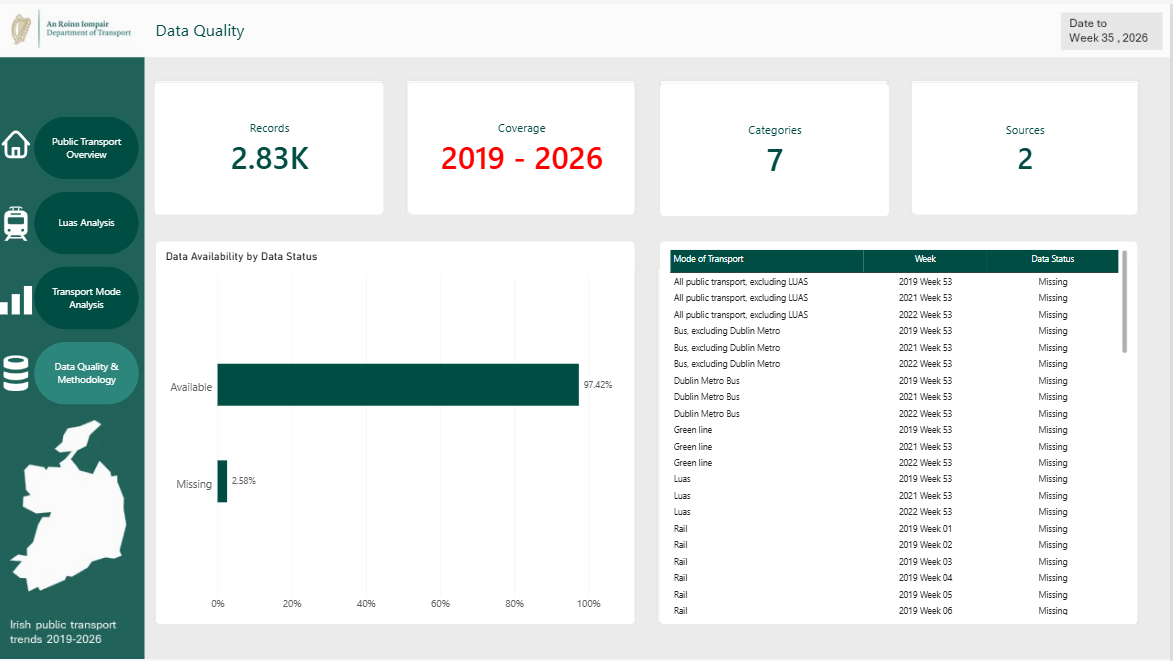

Layout of this report page (visuals, bound fields, positions):
{"tool":"powerbi","page":{"name":"Data Quality & Methodology","canvas":[1920,1080],"ordinal":3},"visuals":[{"type":"textbox","box":[257.2,23.5,393.1,50.7],"z":0},{"type":"pageNavigator","box":[58.5,183.5,172.9,474.8],"z":4000},{"type":"image","box":[0,202.2,58.5,55.9],"z":5000},{"type":"image","box":[0,332.5,58.5,55.9],"z":6000},{"type":"image","box":[0,575.9,58.5,59.9],"z":7000},{"type":"image","box":[1.3,454.9,53.2,61.2],"z":8000},{"type":"cardVisual","fields":{"Data":["CountNonNull(Public_Transport_Combined.Week)"]},"box":[256.4,127.2,377.3,218.9],"z":9000},{"type":"cardVisual","fields":{"Data":["Count(Public_Transport_Combined.Source)"]},"box":[1496.3,127.7,371.1,218.1],"z":10000},{"type":"cardVisual","fields":{"Data":["Public_Transport_Combined.Coverage"]},"box":[671,128.5,373.1,218.6],"z":11000},{"type":"cardVisual","fields":{"Data":["Count(Public_Transport_Combined.Mode of Transport)"]},"box":[1084,129.3,377.3,218.9],"z":18000},{"type":"barChart","fields":{"Category":["Public_Transport_Combined.Data Status"],"Y":["CountNonNull(Public_Transport_Combined.Week)"]},"box":[257.2,389.4,786.1,628.5],"z":18001},{"type":"tableEx","fields":{"Values":["Public_Transport_Combined.Mode of Transport","Public_Transport_Combined.Week","Public_Transport_Combined.Data Status"]},"box":[1083.2,389.4,784.3,628.5],"z":18002}]}

Visuals, with their boxes on the page's 1920x1080 design canvas (x1, y1, x2, y2). These are canvas units, not pixel positions in the 1173x661 screenshot, which may show the page scaled, cropped or inside an application window:
textbox: {"x1": 257, "y1": 24, "x2": 650, "y2": 74}
pageNavigator: {"x1": 58, "y1": 184, "x2": 231, "y2": 658}
image: {"x1": 0, "y1": 202, "x2": 58, "y2": 258}
image: {"x1": 0, "y1": 332, "x2": 58, "y2": 388}
image: {"x1": 0, "y1": 576, "x2": 58, "y2": 636}
image: {"x1": 1, "y1": 455, "x2": 54, "y2": 516}
cardVisual - CountNonNull(Public_Transport_Combined.Week): {"x1": 256, "y1": 127, "x2": 634, "y2": 346}
cardVisual - Count(Public_Transport_Combined.Source): {"x1": 1496, "y1": 128, "x2": 1867, "y2": 346}
cardVisual - Public_Transport_Combined.Coverage: {"x1": 671, "y1": 128, "x2": 1044, "y2": 347}
cardVisual - Count(Public_Transport_Combined.Mode of Transport): {"x1": 1084, "y1": 129, "x2": 1461, "y2": 348}
barChart - Public_Transport_Combined.Data Status x CountNonNull(Public_Transport_Combined.Week): {"x1": 257, "y1": 389, "x2": 1043, "y2": 1018}
tableEx - Public_Transport_Combined.Mode of Transport x Public_Transport_Combined.Week: {"x1": 1083, "y1": 389, "x2": 1868, "y2": 1018}
